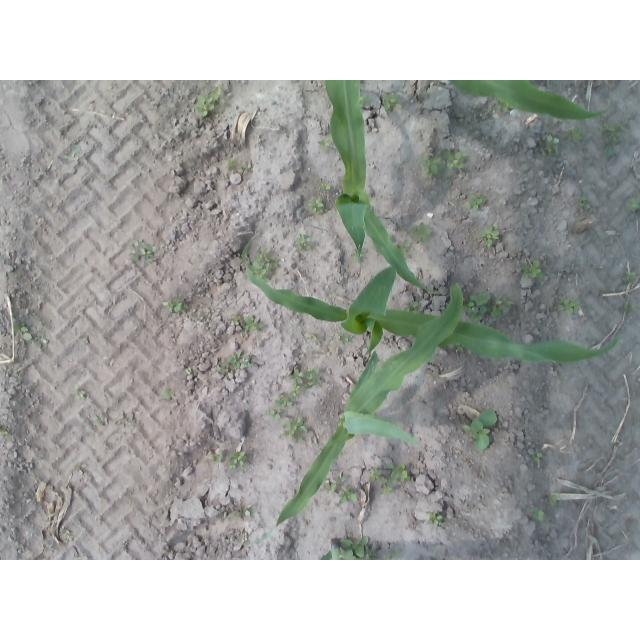Maize: (241, 232, 619, 365), (275, 285, 465, 528), (324, 80, 445, 296), (449, 80, 612, 120), (319, 537, 349, 560)
Weeds: (267, 384, 302, 420), (603, 115, 629, 161), (473, 407, 498, 452), (61, 145, 87, 175), (279, 418, 309, 444), (467, 291, 489, 321), (344, 537, 372, 557), (226, 349, 250, 369), (329, 471, 349, 494), (539, 136, 560, 157), (491, 297, 514, 315), (479, 227, 501, 245), (130, 240, 150, 259), (255, 254, 274, 274), (339, 487, 358, 506), (163, 298, 187, 313), (381, 90, 399, 110), (228, 450, 247, 467), (198, 96, 214, 116), (412, 224, 433, 239), (305, 370, 322, 388), (427, 157, 442, 177), (449, 151, 465, 169), (210, 88, 226, 105), (292, 236, 312, 249), (391, 465, 409, 479), (528, 449, 544, 463), (246, 315, 262, 329), (466, 197, 486, 208), (309, 199, 324, 213), (561, 299, 576, 313), (370, 466, 383, 482), (427, 511, 441, 525), (291, 367, 305, 381), (158, 388, 173, 401), (17, 323, 30, 338), (529, 260, 541, 276), (629, 197, 640, 212), (361, 92, 371, 108), (579, 196, 590, 209), (405, 301, 419, 311), (624, 303, 636, 314), (625, 272, 636, 284), (228, 315, 240, 326), (533, 505, 544, 517), (93, 415, 104, 426), (227, 159, 238, 170), (568, 131, 580, 141), (1, 427, 12, 437), (212, 453, 223, 463), (383, 483, 394, 493), (548, 495, 559, 505), (319, 182, 331, 191), (77, 390, 87, 399), (338, 333, 349, 341), (324, 137, 330, 148), (311, 333, 318, 340)
